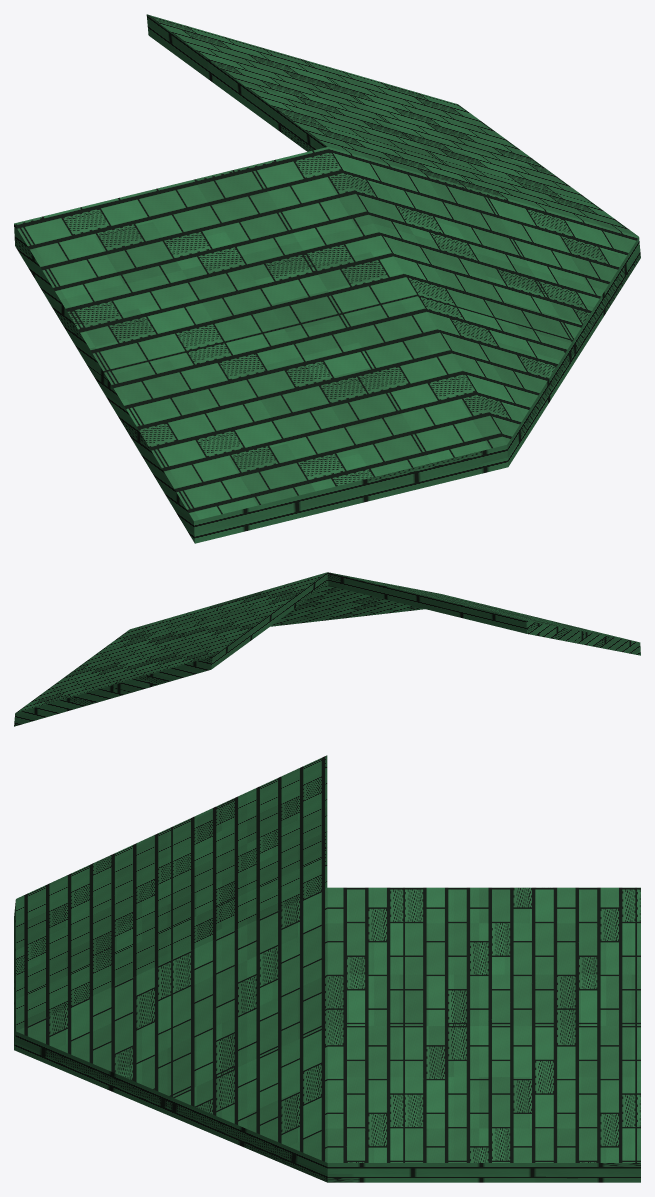
Rendered from theodosian green roof corner inverse.glb.
3 views of the same model, one above another, from view 1: azimuth 30°, elevation 25°; view 2: azimuth 150°, elevation 25°; view 3: azimuth 270°, elevation 25° (orthographic). The views are drawn at different scales.
Visible parts, largest first — view 1: Theodosian_green_corner_inverse; view 2: Theodosian_green_corner_inverse; view 3: Theodosian_green_corner_inverse.
Boxes of the visible parts, box(x1,y1,x2,y2) form: Theodosian_green_corner_inverse: box(14, 14, 640, 543); Theodosian_green_corner_inverse: box(14, 572, 640, 726); Theodosian_green_corner_inverse: box(14, 755, 640, 1182).
Bounding box in the file's own units: 2 × 0.5726 × 2.
1 material, 1 textured.
